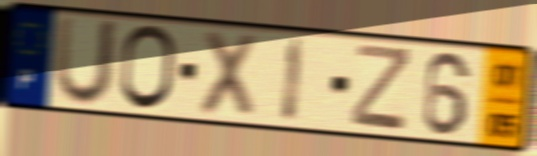6: (420, 49, 475, 139)
I: (279, 34, 308, 127)
O: (116, 22, 179, 114)
U: (51, 13, 123, 110)
X: (195, 27, 263, 123)
Z: (348, 41, 414, 135)
